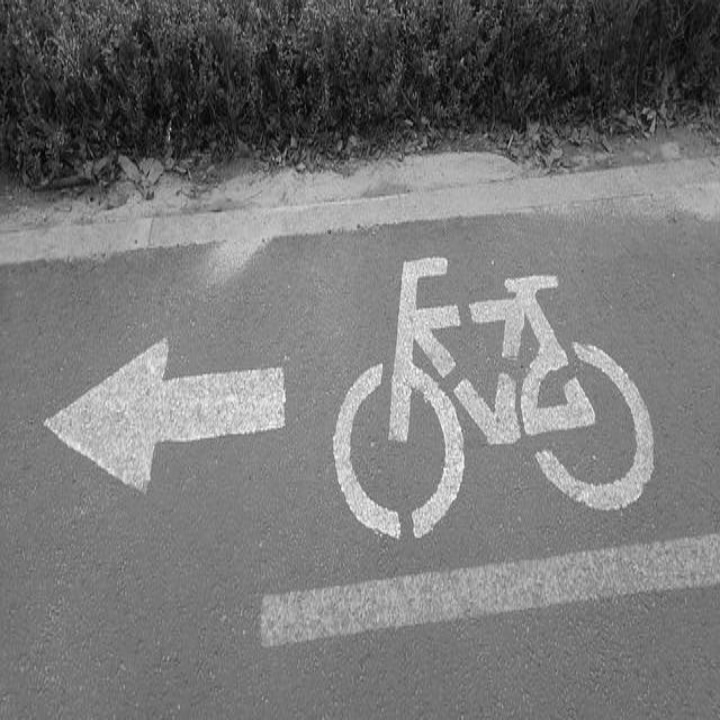bicycle: (314, 232, 670, 560)
